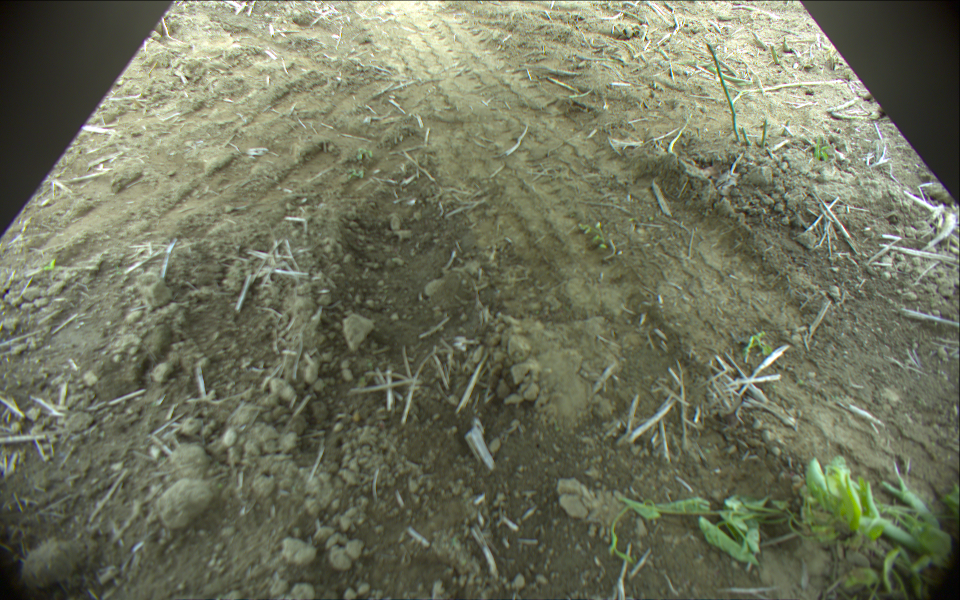aspa: (705, 42, 739, 142), (705, 64, 747, 84), (762, 121, 771, 145), (742, 130, 754, 146), (780, 119, 792, 134), (772, 47, 781, 65)
